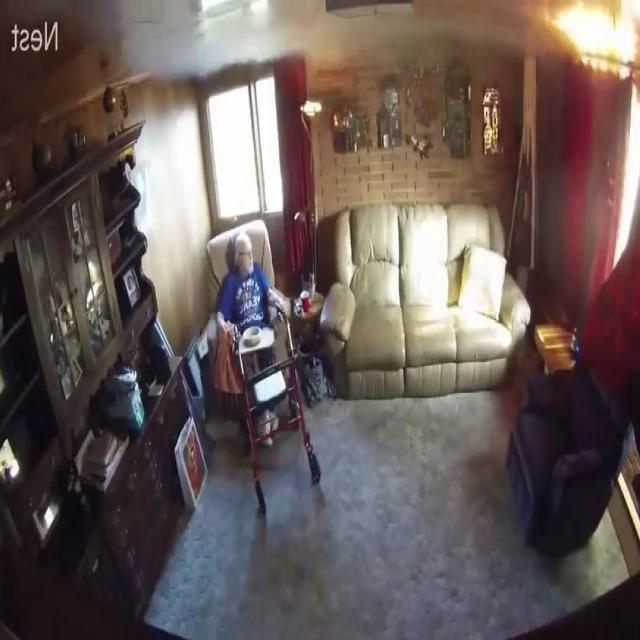fire: (114, 9, 528, 90)
smoke: (556, 7, 636, 82)
